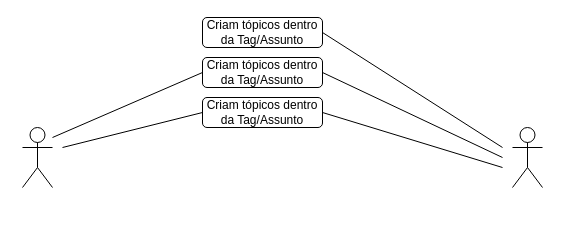
This 562x226 diagram has some shape labels left out. Each missing label, with the box of its shape:
Admin: (512, 126, 542, 188)
Usuário: (22, 126, 52, 188)
